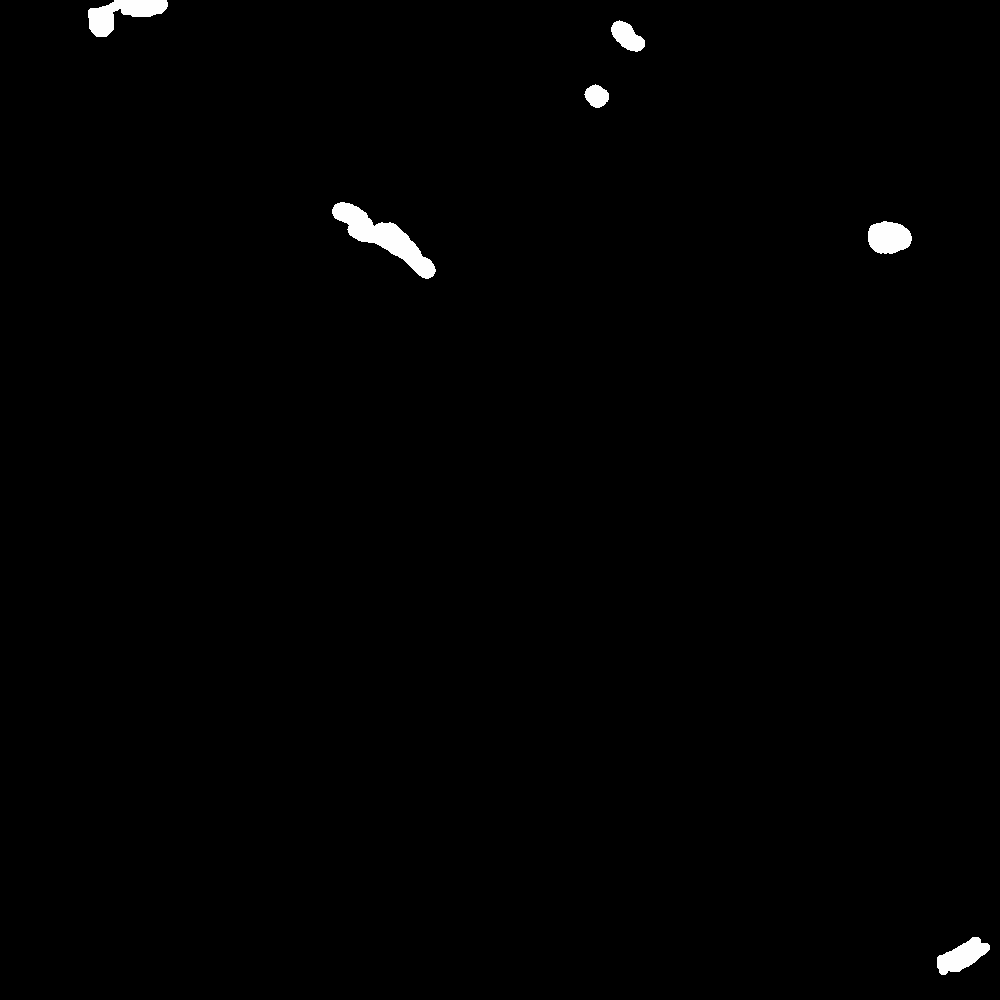illegal: (907, 935, 988, 996), (74, 1, 169, 36), (582, 83, 618, 109), (611, 24, 635, 47)
